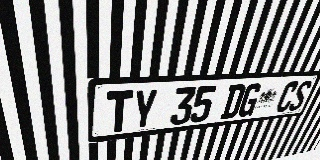3: (169, 87, 197, 126)
5: (189, 86, 217, 123)
C: (274, 81, 301, 113)
D: (220, 84, 247, 120)
G: (236, 83, 263, 118)
S: (287, 80, 314, 111)
T: (106, 90, 133, 134)
Y: (131, 89, 158, 131)
